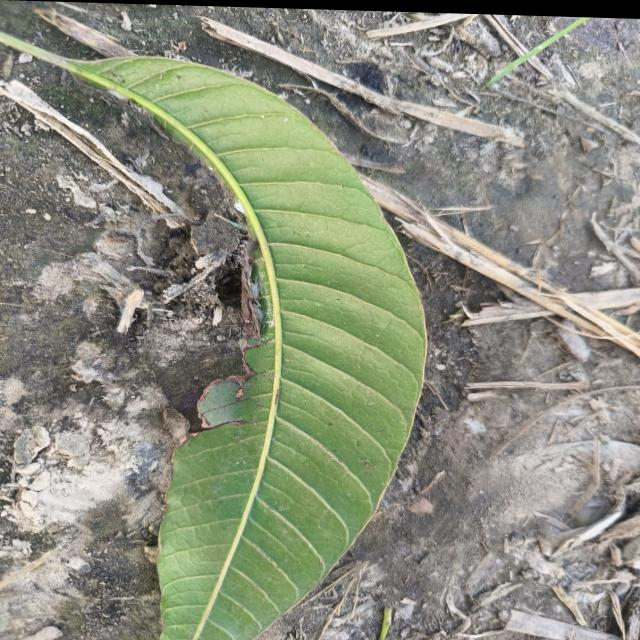Bacterial Cancer: (191, 329, 278, 426)
